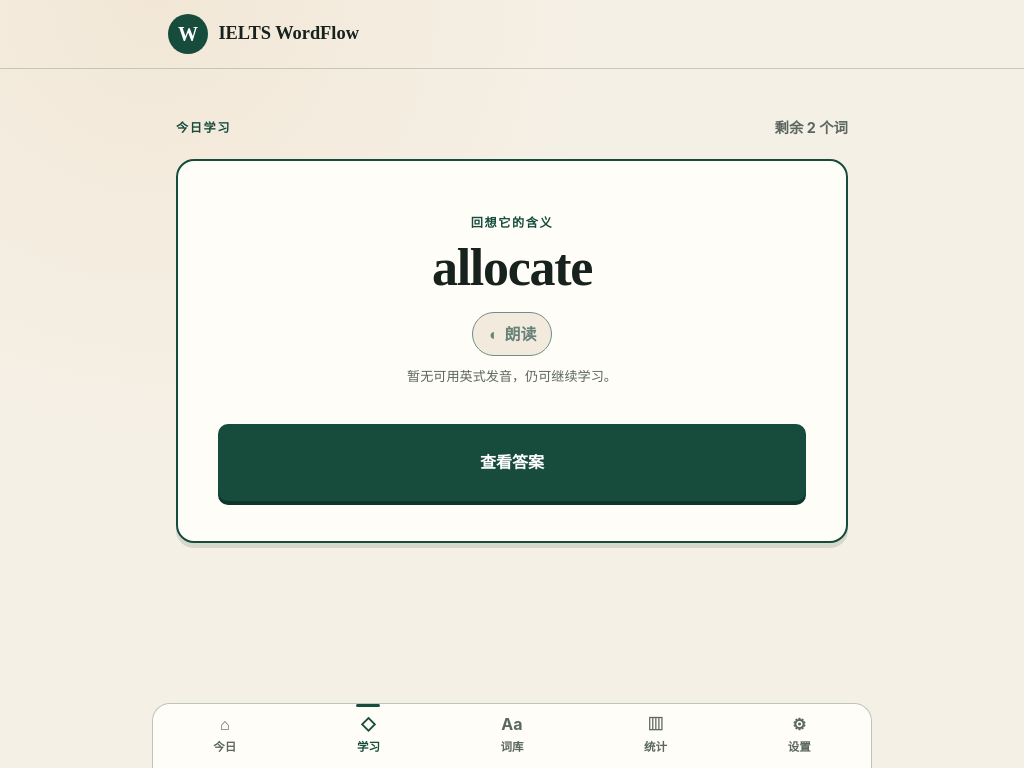
Test: StudyPage › disables every rating while saving and ignores a double submission
Check: the heading "allocate" is shown, box [432,238,592,298]
Click the button "查看答案".
click(512, 462)  # box [218,424,806,501]
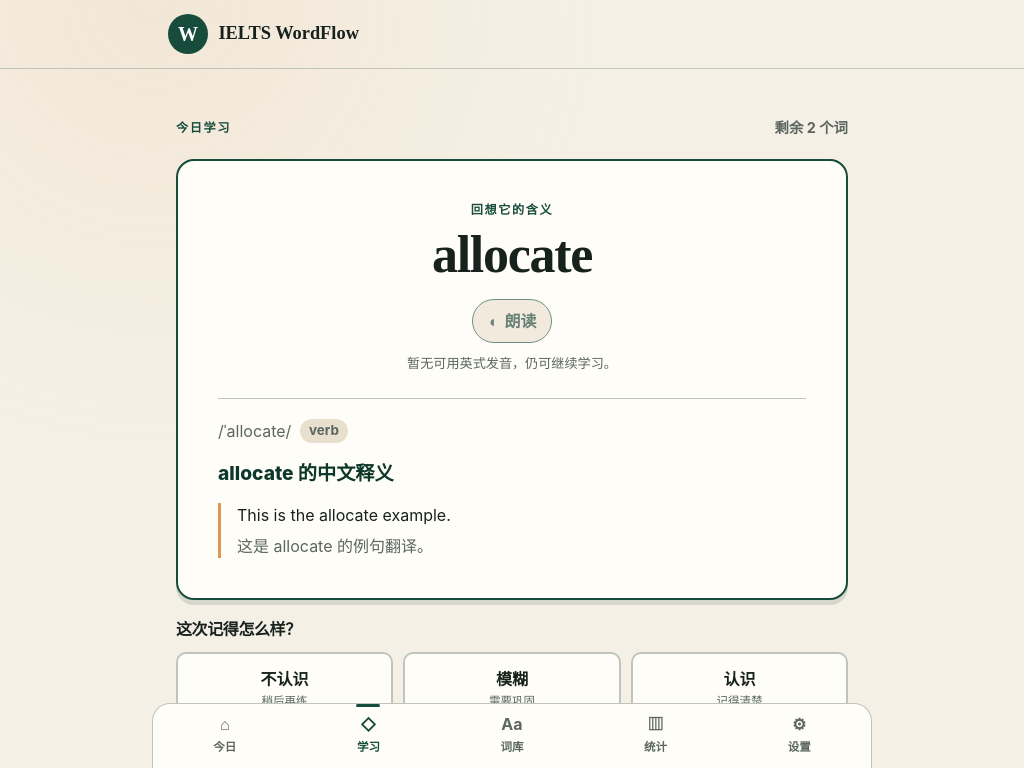
Click the button "认识 记得清楚".
click(739, 688)  # box [631,652,848,724]
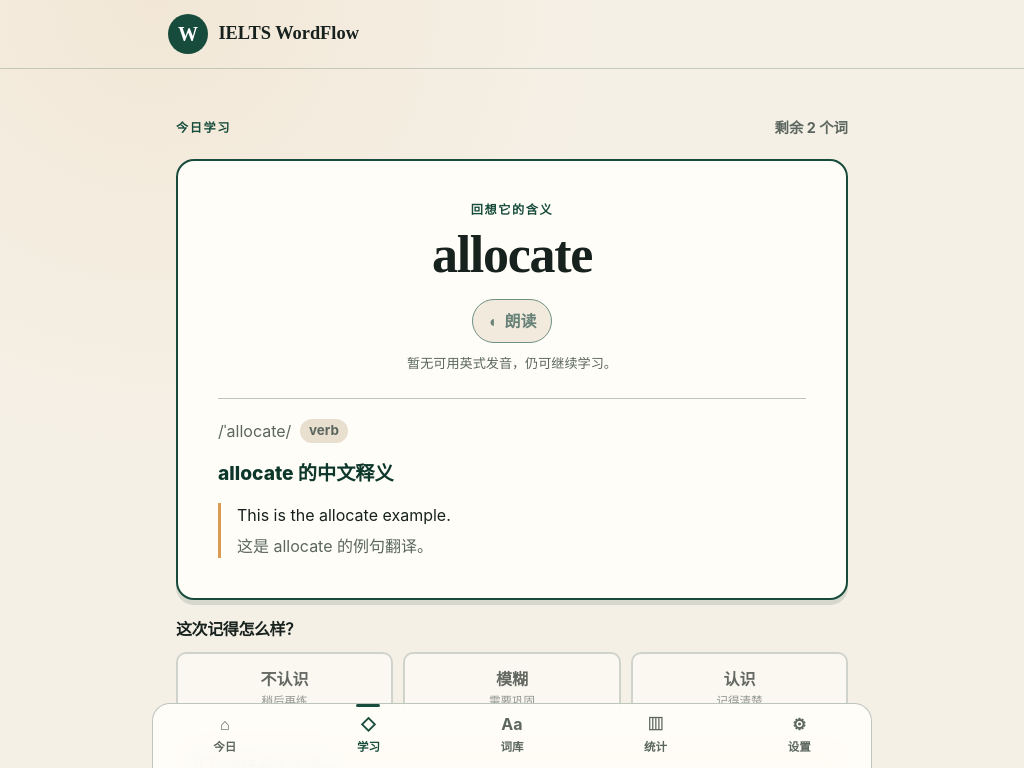
Check: the button "不认识 稍后再练" is disabled, box [176,652,393,724]
Check: the button "模糊 需要巩固" is disabled, box [404,652,621,724]
Check: the button "认识 记得清楚" is disabled
Click the button "认识 记得清楚".
click(739, 688)  # box [631,652,848,724]
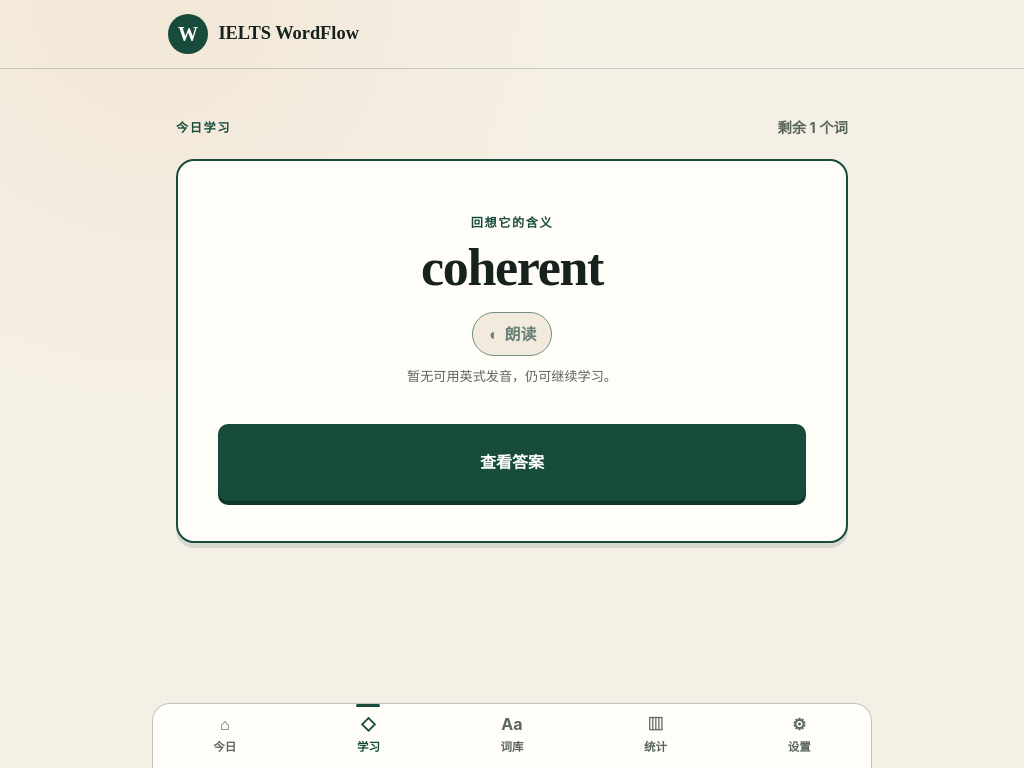
Check: the heading "coherent" is shown, box [421,238,603,298]
